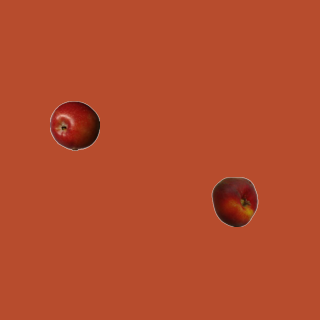Apple Braeburn: (49, 100, 99, 150)
Nectarine Flat: (209, 176, 259, 226)
